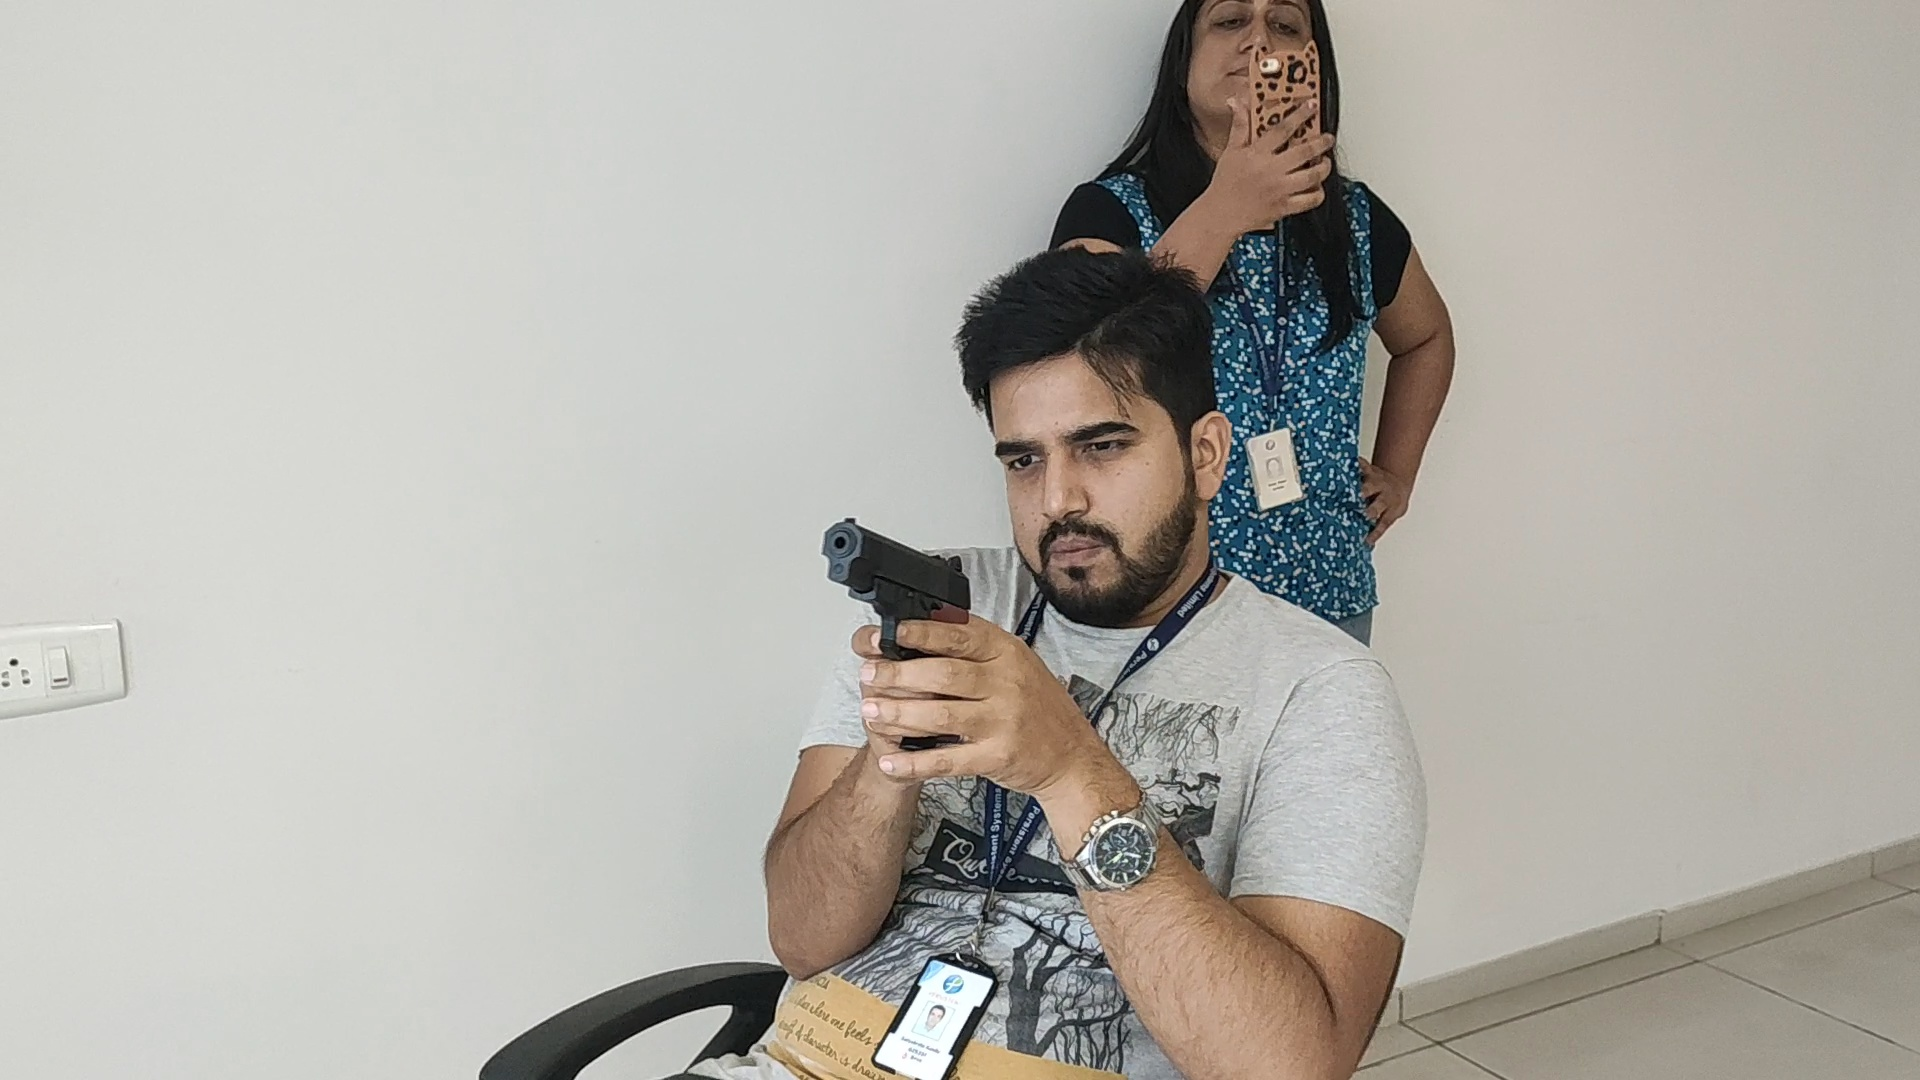gun: (822, 518, 971, 624)
